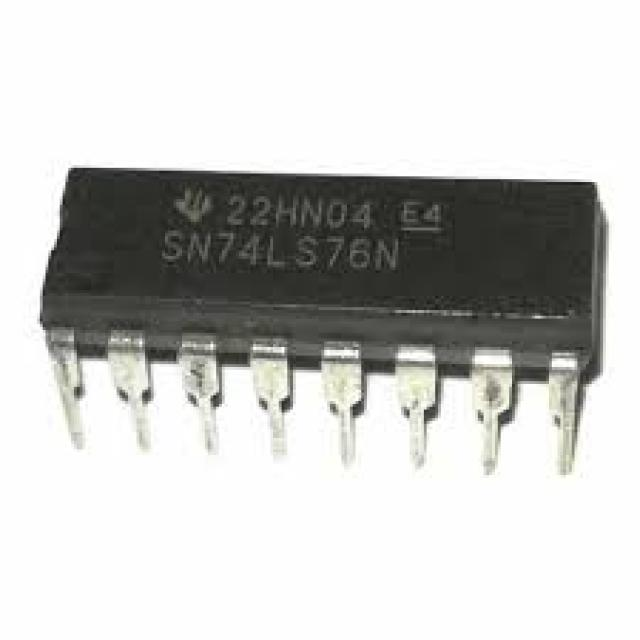IC: (35, 169, 606, 480)
